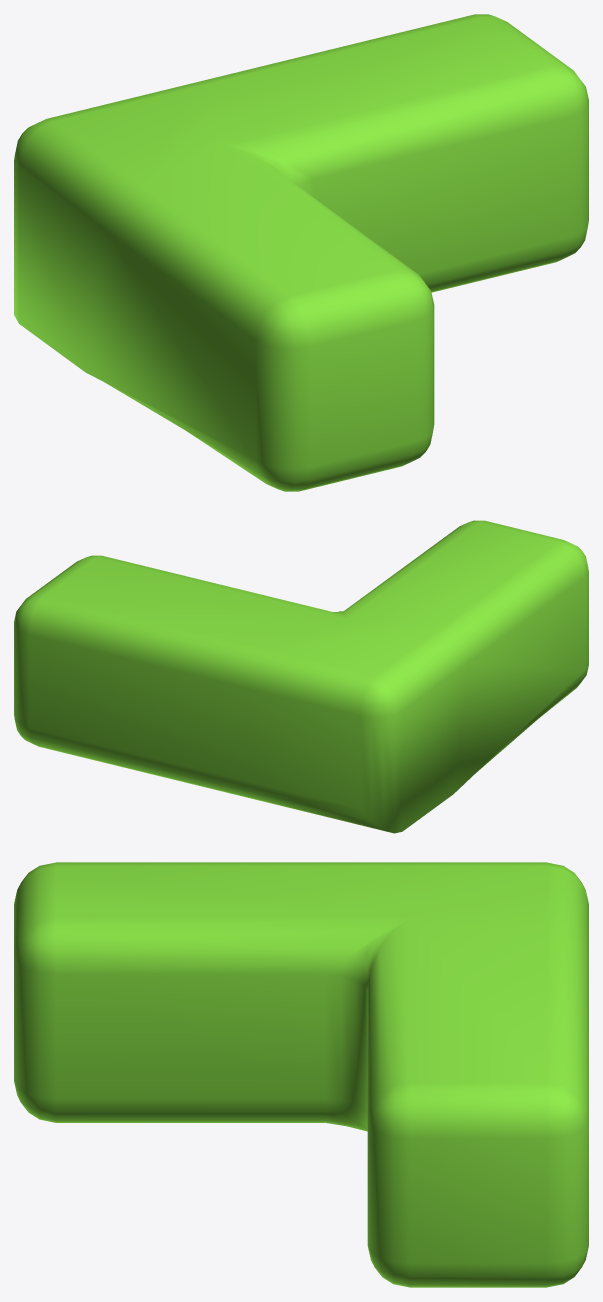
File: bush1.fbx
3 renders of one model, top to bottom at view 1: azimuth 30°, elevation 25°; view 2: azimuth 150°, elevation 25°; view 3: azimuth 270°, elevation 25°, orthographic. The views are drawn at different scales.
Visible parts, largest first — view 1: Cube.006; view 2: Cube.006; view 3: Cube.006.
Boxes of the visible parts, x1,y1,x2,y2 form: Cube.006: (14,14,588,491); Cube.006: (14,520,588,833); Cube.006: (14,862,588,1287).
Size of the model in its own units: 743 by 276 by 716.
